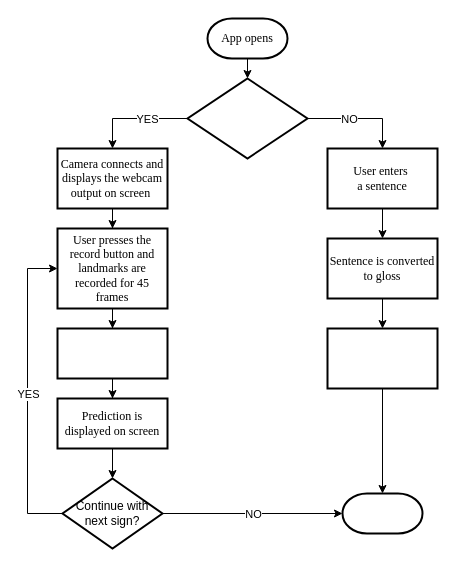
This 456x566 diagram has some shape labels left out. The shapes that lost their labels are listed below. From the top down, each one's centre as x and y in pixels, then its label:
At [247,118]: "Which conversion does user want".
At [112,353]: "DTW templates are compared with the recorded sequence".
At [382,358]: "Corresponding videos are merged and displayed to form a sentence".
At [382,513]: "App is closed".
